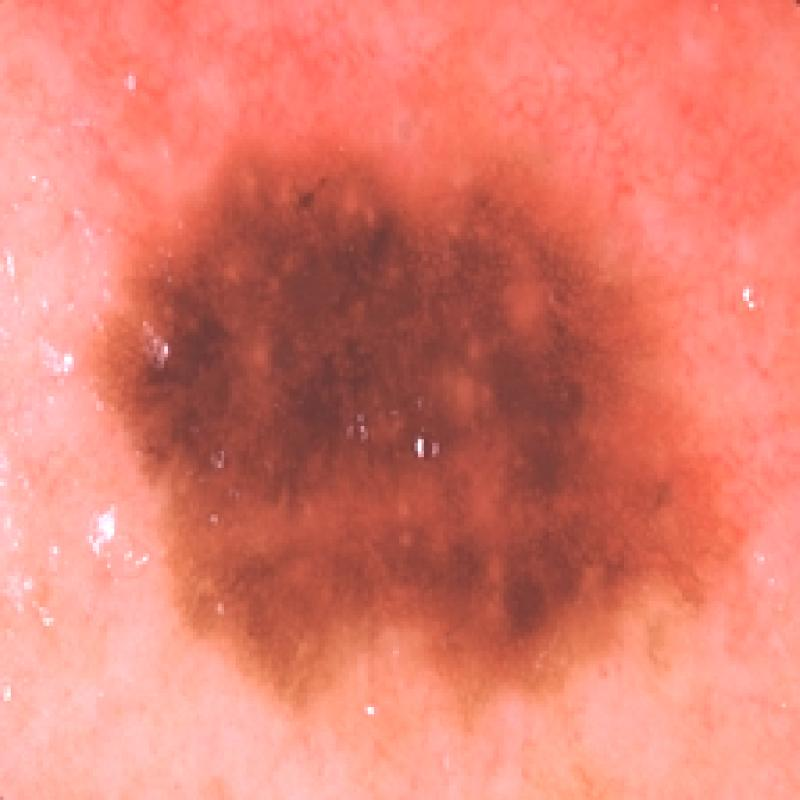malignant: (79, 137, 751, 722), (28, 522, 29, 523)
